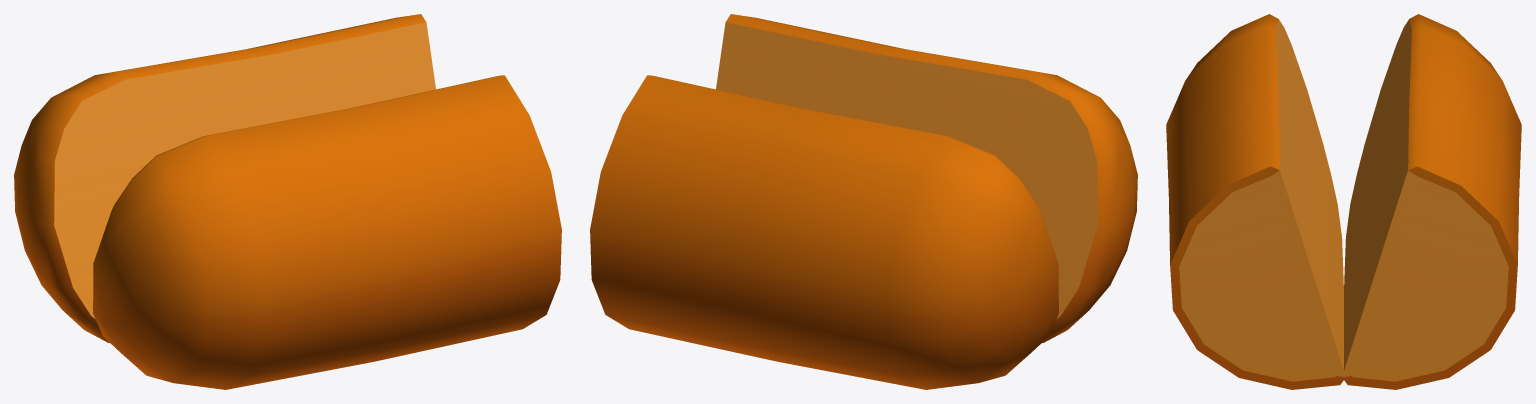
Rendered from HotDog_bun_half.003.fbx.
3 views of the same model, side by side, from view 1: azimuth 30°, elevation 25°; view 2: azimuth 150°, elevation 25°; view 3: azimuth 270°, elevation 25° (orthographic). The views are drawn at different scales.
Parts seen in each view (by area): view 1: HotDog_bun_half.003; view 2: HotDog_bun_half.003; view 3: HotDog_bun_half.003.
Boxes of the visible parts, box(x1,y1,x2,y2) form: HotDog_bun_half.003: box(14, 14, 561, 389); HotDog_bun_half.003: box(590, 14, 1137, 389); HotDog_bun_half.003: box(1166, 14, 1521, 389).
Bounding box in the file's own units: 76.52 × 67.97 × 49.74.
